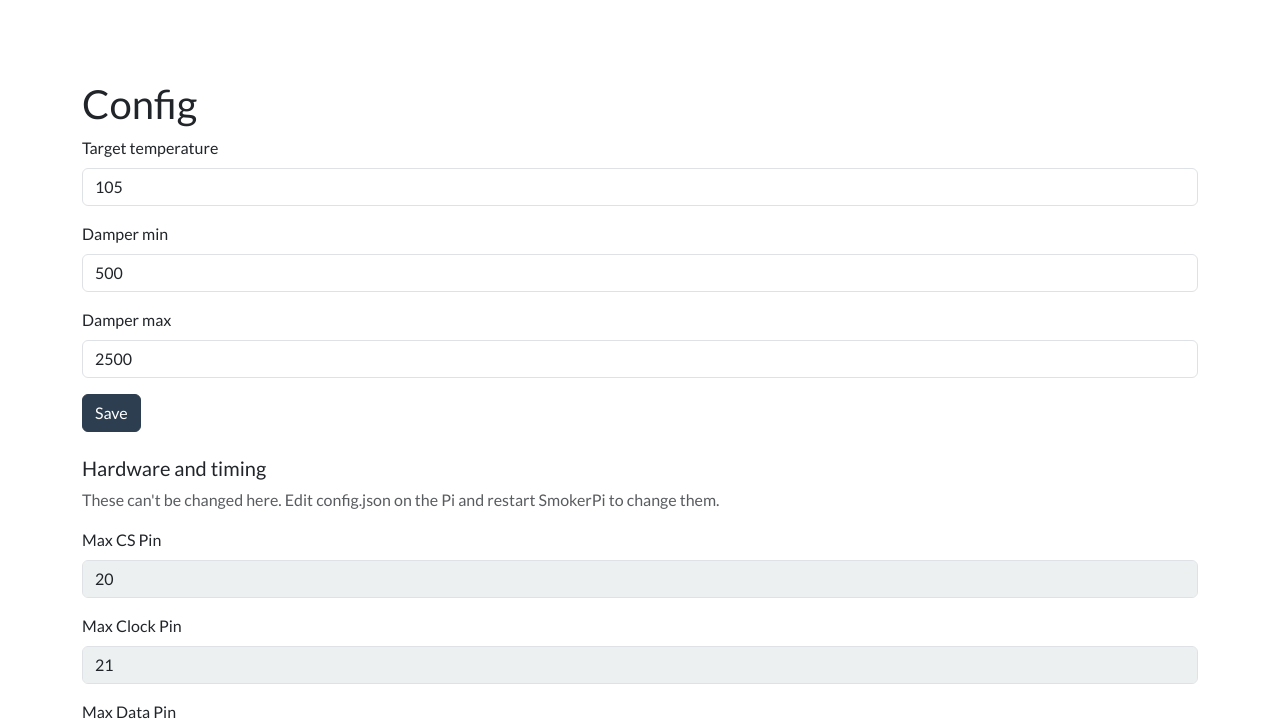
Test case: Damper max = "12.5" shows an error next to the field and is not posted
Replace the text in the field labelled "Damper max" with "12.5". click: {"x": 640, "y": 359}
box: [82,340,1198,378]
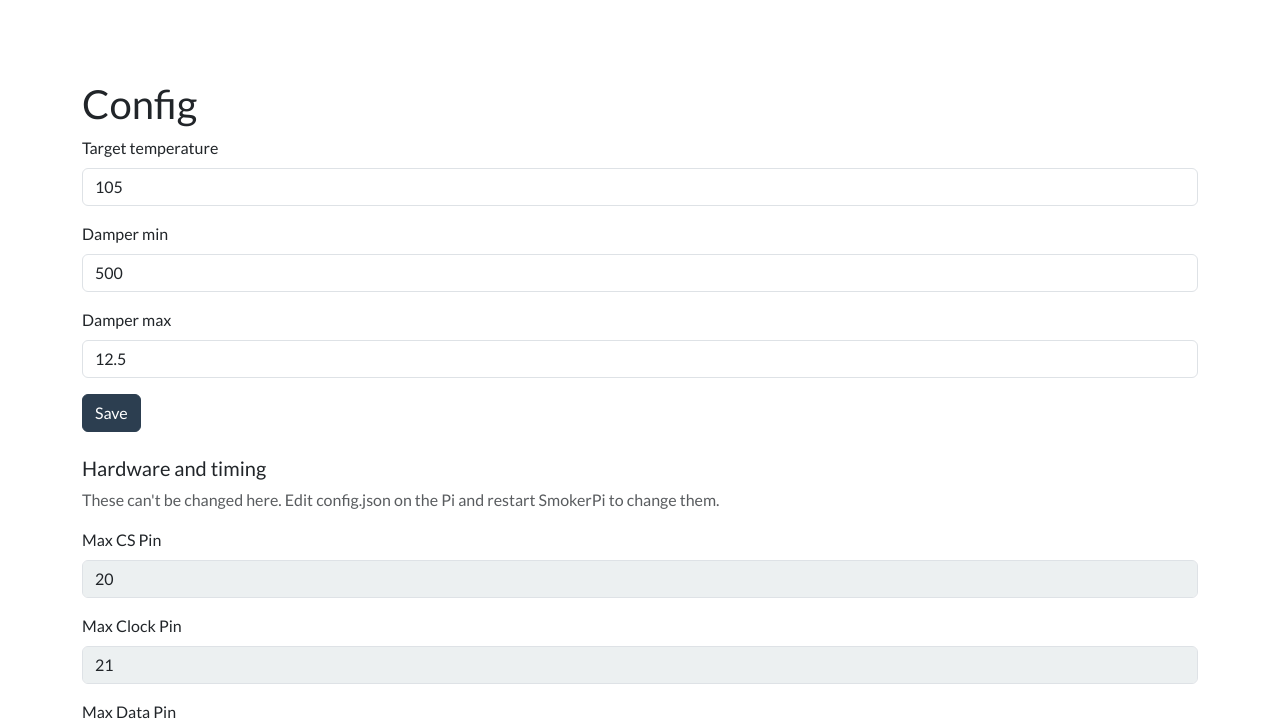
Click the button "Save". click: {"x": 111, "y": 413}
box: [82,394,141,432]
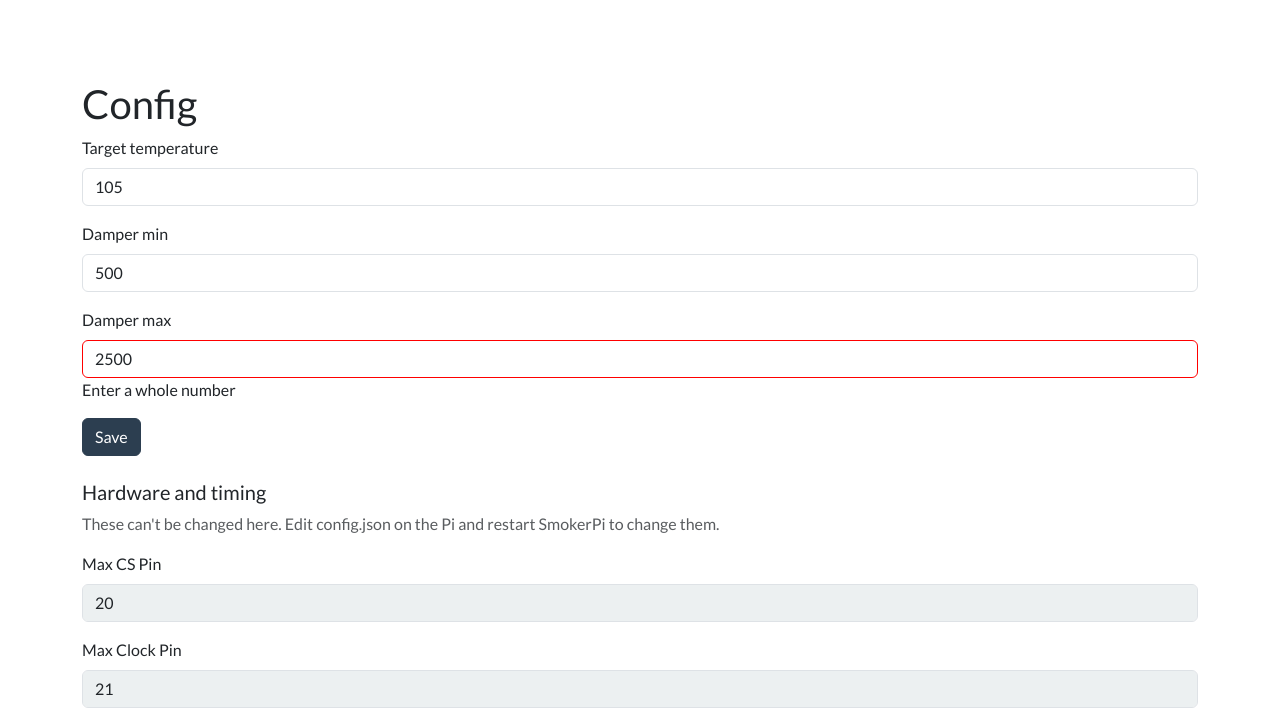
Expected: the text "Enter a whole number" is shown, [82,380,236,399]
